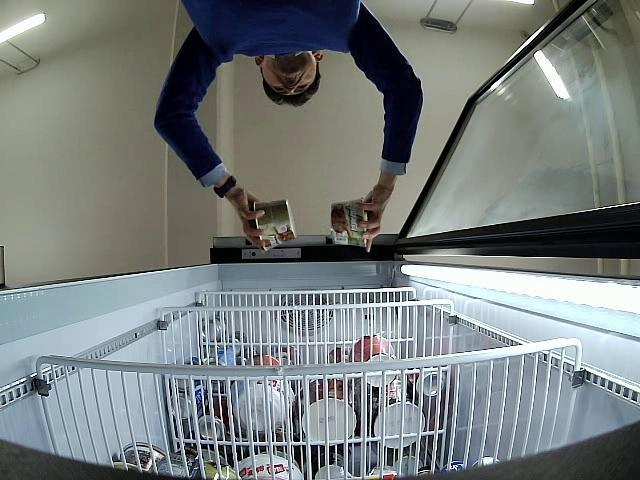03_chapagetti_L: (253, 200, 296, 252), (330, 197, 368, 246)
